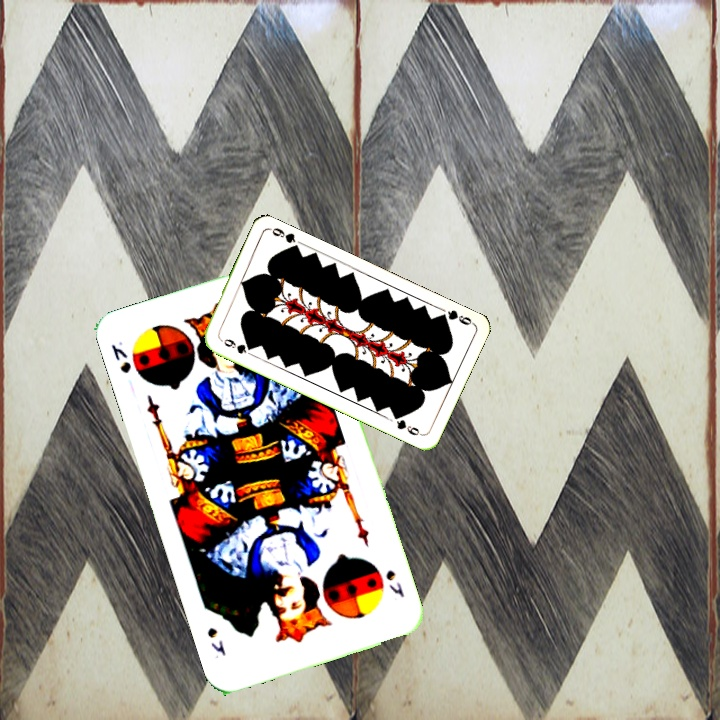G9: (434, 306, 476, 328), (216, 334, 255, 356)
SK: (107, 337, 134, 376), (381, 566, 407, 600)
